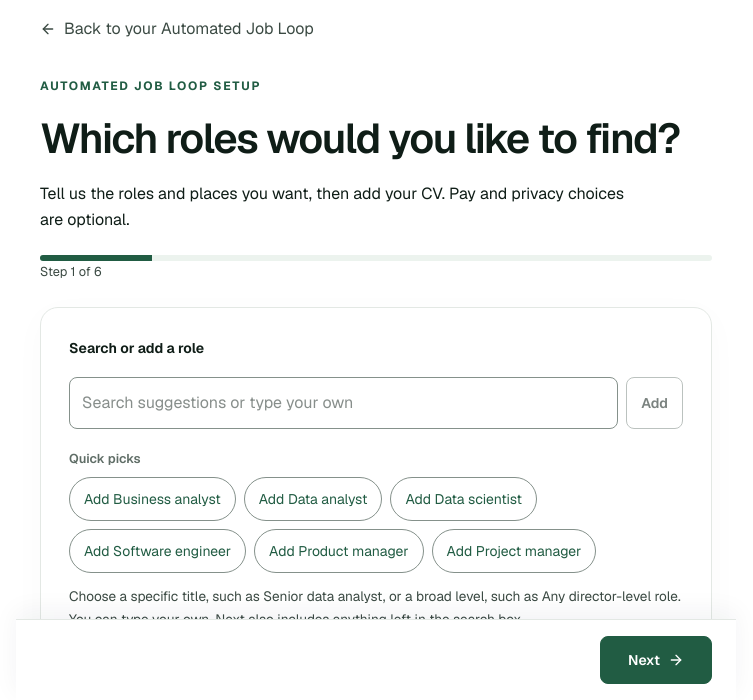
Test: the "Check my saved dashboard" link is for load and save problems › is not shown beside a step that needs an answer, and the error is still announced and focused
The width and height of the screenshot is (753, 700).
Expected: the field labelled "Search or add a role" is shown, 69,377 -> 618,429
Click the button "Next".
click(656, 660)  # box 600,636 -> 712,684
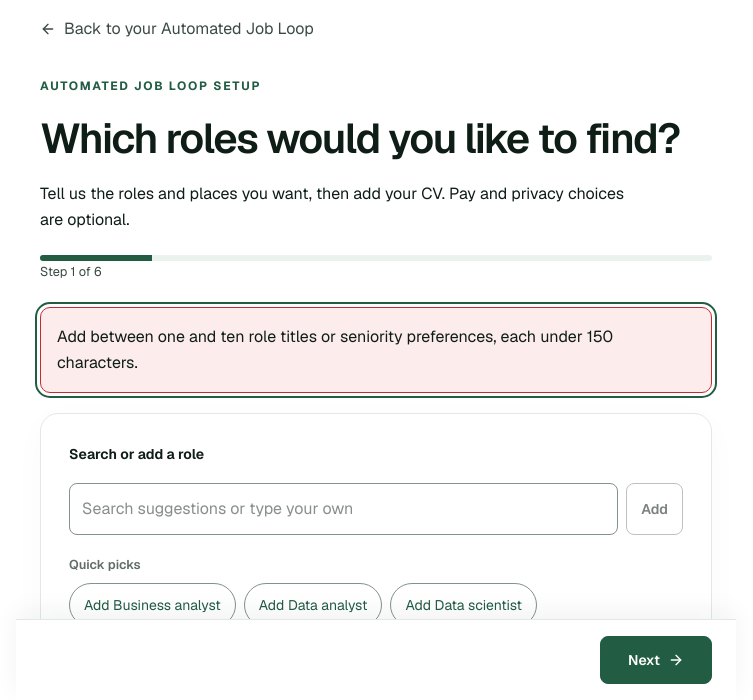
Expected: the link "Back to your Automated Job Loop" is shown, 40,16 -> 314,42
Now the message shows "Add between one and ten role titles", box 57,326 -> 613,372
